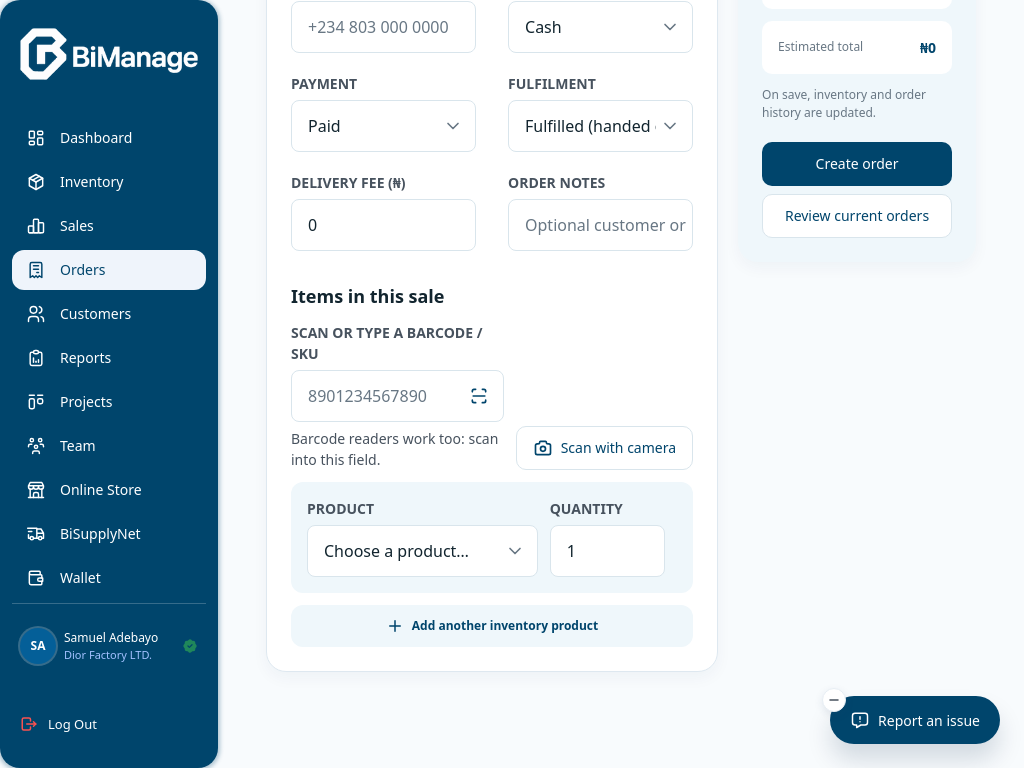
Test: scanning into a new order › a barcode reader (keyboard + Enter) fills a line, then adds to its quantity
This screenshot has width=1024, height=768.
(page scrolled)
Type "5901234123457" into the field labelled "Scan or type a barcode / SKU" at (384,396), box [308, 370, 461, 420]
Then press Enter
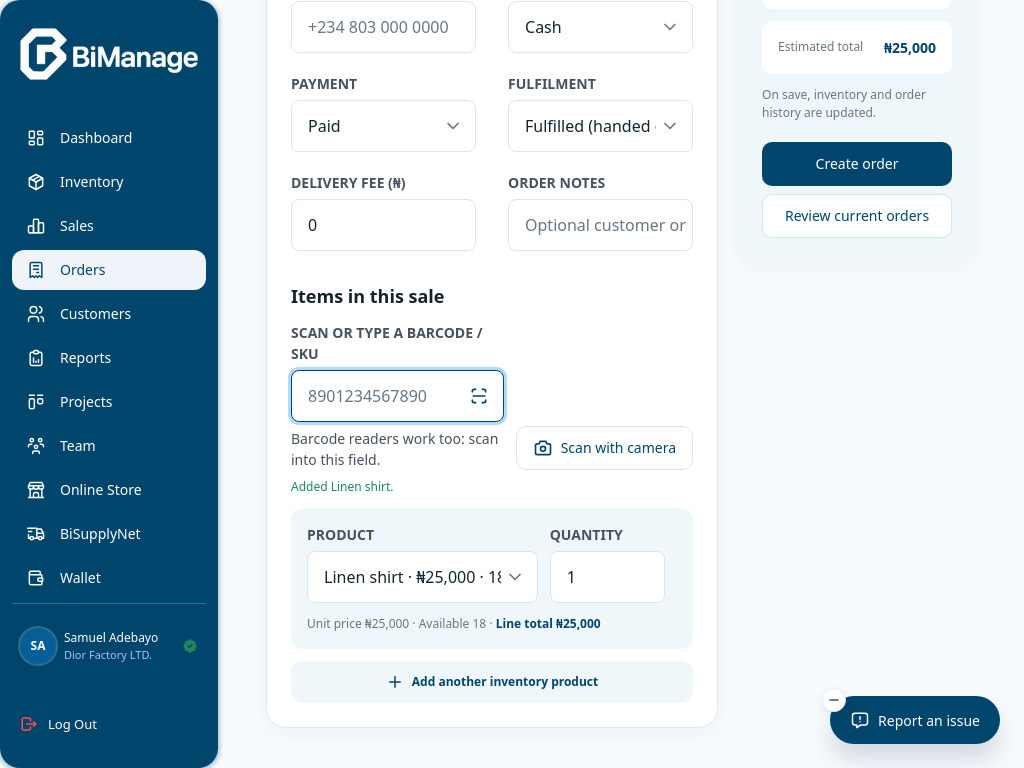
Check: the text "Added Linen shirt." is shown, box [291, 478, 394, 494]
Check: the dropdown labelled "Product" shows "Linen shirt · ₦25,000 · 18 in stock", box [324, 552, 525, 602]
Type "ls-1" into the field labelled "Scan or type a barcode / SKU" at (384,396), box [308, 370, 461, 420]
Then press Enter
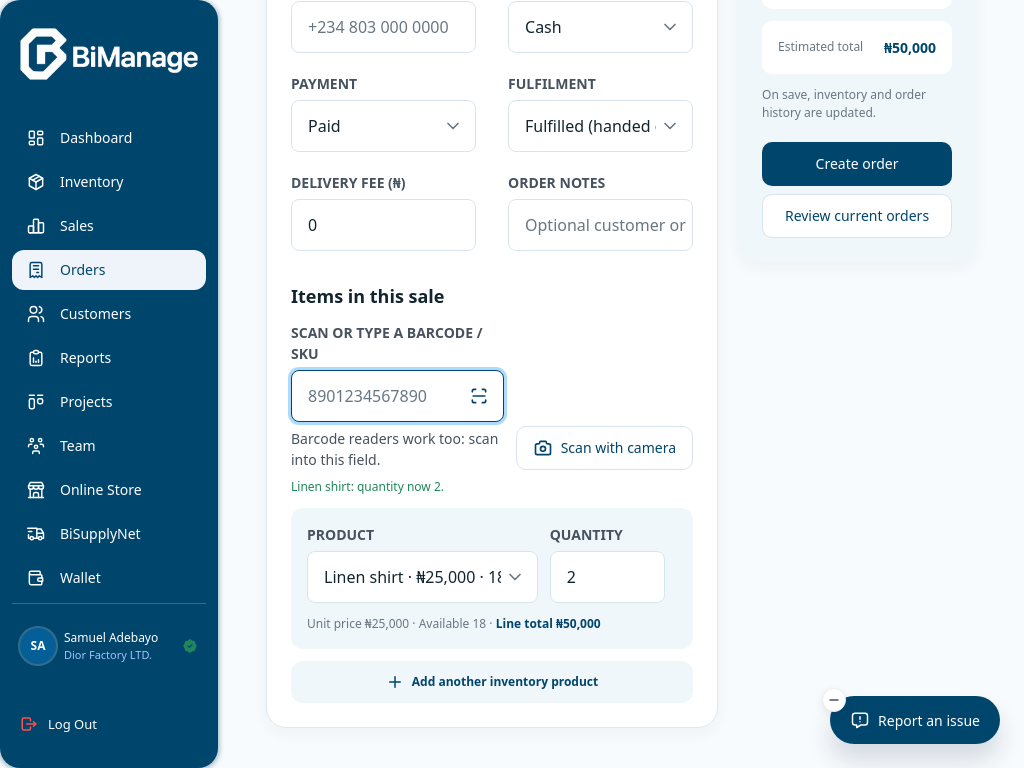
Check: the text "Linen shirt: quantity now 2." is shown, box [291, 478, 444, 494]
Check: the field labelled "Quantity" holds "2", box [567, 552, 658, 602]
Type "4006381333931" into the field labelled "Scan or type a barcode / SKU" at (384,396), box [308, 370, 461, 420]
Then press Enter
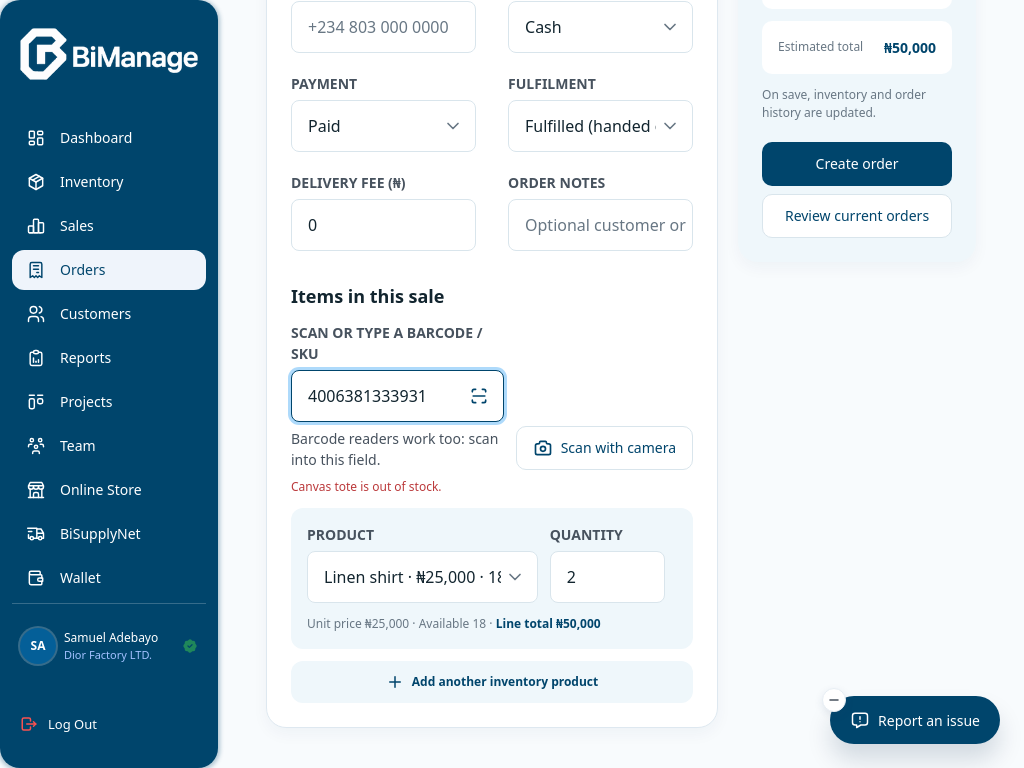
Check: the text "Canvas tote is out of stock." is shown, box [291, 478, 442, 494]
Type "000" into the field labelled "Scan or type a barcode / SKU" at (384,396), box [308, 370, 461, 420]
Then press Enter
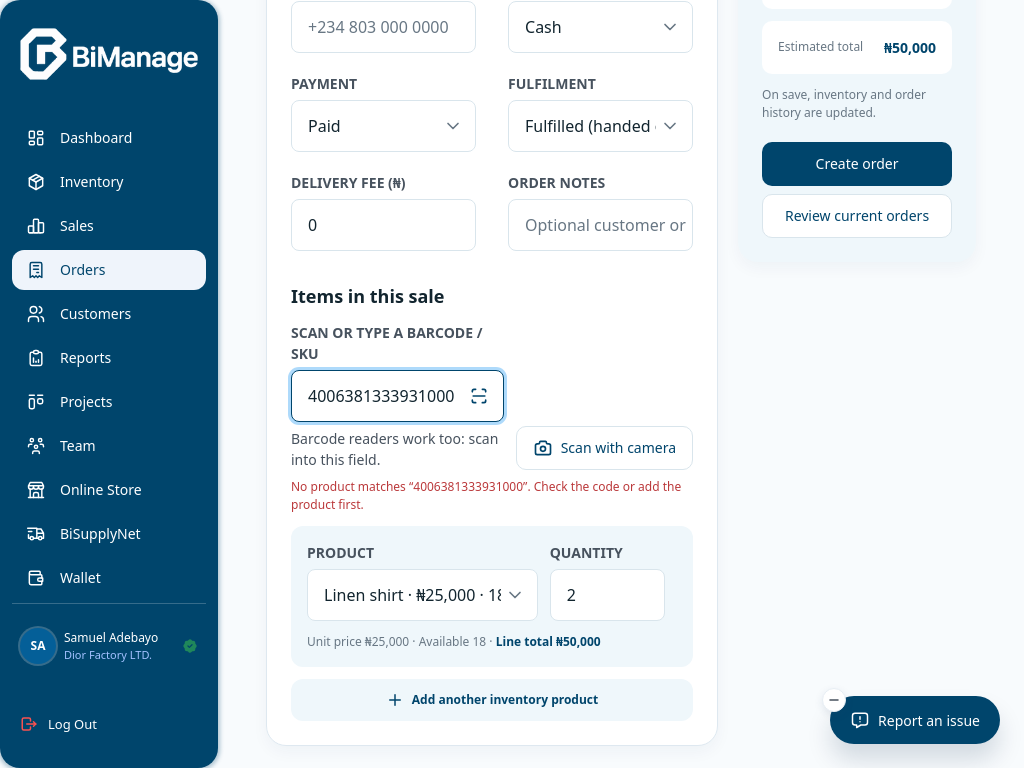
Check: the button "Scan with camera" is shown, box [516, 426, 693, 470]
Check: the text "No product matches" is shown, box [291, 478, 681, 512]
